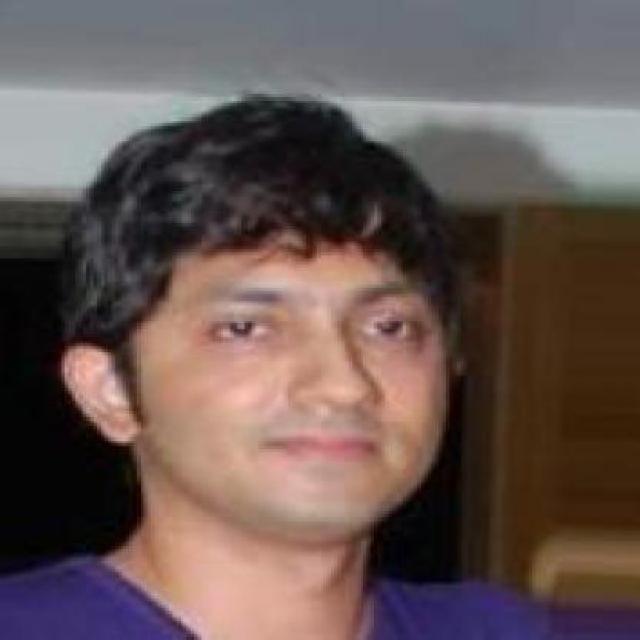closed-mouth: (265, 430, 384, 458)
